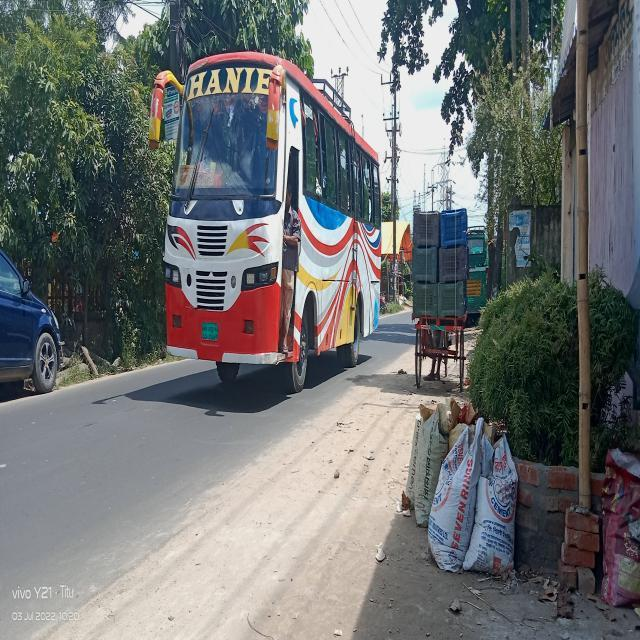Bus: (144, 21, 393, 389)
